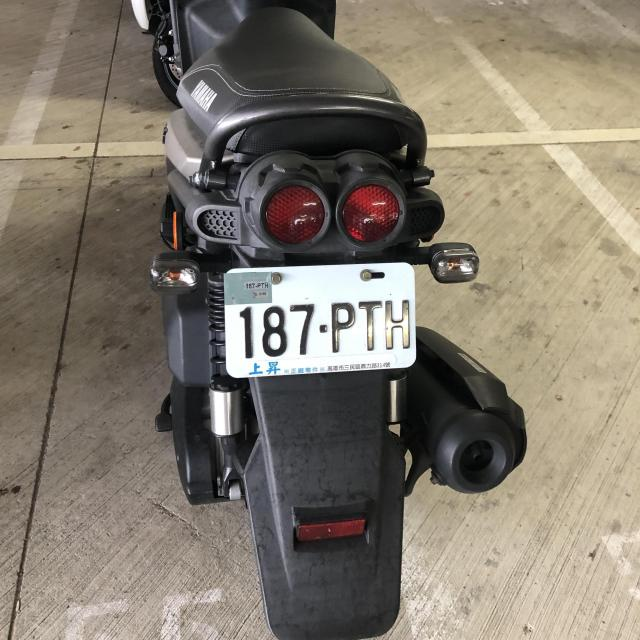W: (222, 262, 416, 377)
